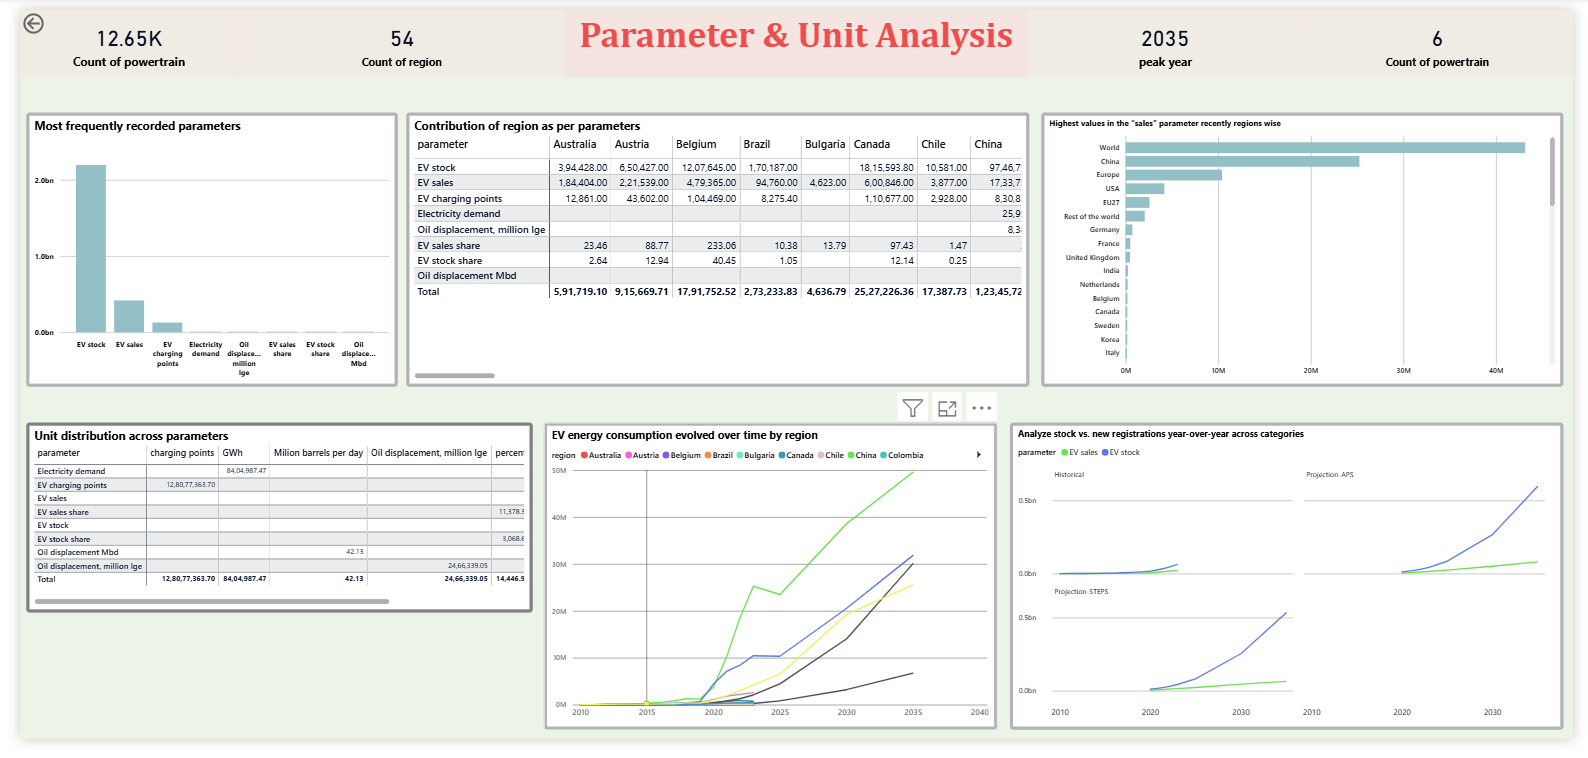

What the dashboard file says about the page in this screenshot:
{"tool":"powerbi","page":{"name":"Page 3","canvas":[2300,1080],"ordinal":2},"visuals":[{"type":"columnChart","title":"Most frequently recorded parameters ","fields":{"Category":["EV_dataset.parameter"],"Y":["EV_dataset.sum of ev values"]},"box":[10,151.7,550,406.7],"z":0},{"type":"pivotTable","title":"Contribution of region as per parameters","fields":{"Columns":["EV_dataset.region"],"Values":["EV_dataset.sum of ev values"],"Rows":["EV_dataset.parameter"]},"box":[571.7,151.7,923.3,406.7],"z":1000},{"type":"lineChart","title":"EV energy consumption evolved over time by region","fields":{"Category":["EV_dataset.year"],"Y":["EV_dataset.sum of ev values"],"Series":["EV_dataset.region"]},"box":[776.7,611.7,671.7,455],"z":2000},{"type":"pivotTable","title":"Unit distribution across parameters ","fields":{"Rows":["EV_dataset.parameter"],"Columns":["EV_dataset.unit"],"Values":["EV_dataset.sum of ev values"]},"box":[10,611.7,750,281.7],"z":3000},{"type":"lineChart","title":"Analyze stock vs. new registrations year-over-year across categories","fields":{"Category":["EV_dataset.year"],"Series":["EV_dataset.parameter"],"Y":["EV_dataset.sum of ev values"],"Rows":["EV_dataset.category"]},"box":[1466.7,611.7,820,455],"z":4000},{"type":"clusteredBarChart","title":"Highest values in the “sales” parameter recently regions wise","fields":{"Category":["EV_dataset.region"],"Y":["EV_dataset.sum of ev values"]},"box":[1513.3,151.7,773.3,406.7],"z":5000},{"type":"textbox","box":[0,0,2300,100],"z":6000},{"type":"card","fields":{"Values":["CountNonNull(EV_dataset.powertrain)"]},"box":[0,0,323.3,100],"z":7000},{"type":"actionButton","box":[0,0,100,40],"z":8000},{"type":"card","fields":{"Values":["Count(EV_dataset.region)"]},"box":[323.3,0,483.3,100],"z":9000},{"type":"card","fields":{"Values":["EV_dataset.peak year"]},"box":[1495,0,405,100],"z":10000},{"type":"card","fields":{"Values":["Count(EV_dataset.powertrain)"]},"box":[1900,0,400,100],"z":11000}]}

Visuals, with their boxes in screenshot pixels (x1, y1, x2, y2), scaled from the page's 2300x1080 canvas onto the 1588x758 screenshot:
"Most frequently recorded parameters " columnChart: box=[7, 106, 387, 392]
"Contribution of region as per parameters" pivotTable: box=[395, 106, 1032, 392]
"EV energy consumption evolved over time by region" lineChart: box=[536, 429, 1000, 749]
"Unit distribution across parameters " pivotTable: box=[7, 429, 525, 627]
"Analyze stock vs. new registrations year-over-year across categories" lineChart: box=[1013, 429, 1579, 749]
"Highest values in the “sales” parameter recently regions wise" clusteredBarChart: box=[1045, 106, 1579, 392]
textbox: box=[0, 0, 1587, 70]
card - CountNonNull(EV_dataset.powertrain): box=[0, 0, 223, 70]
actionButton: box=[0, 0, 69, 28]
card - Count(EV_dataset.region): box=[223, 0, 557, 70]
card - EV_dataset.peak year: box=[1032, 0, 1312, 70]
card - Count(EV_dataset.powertrain): box=[1312, 0, 1587, 70]
